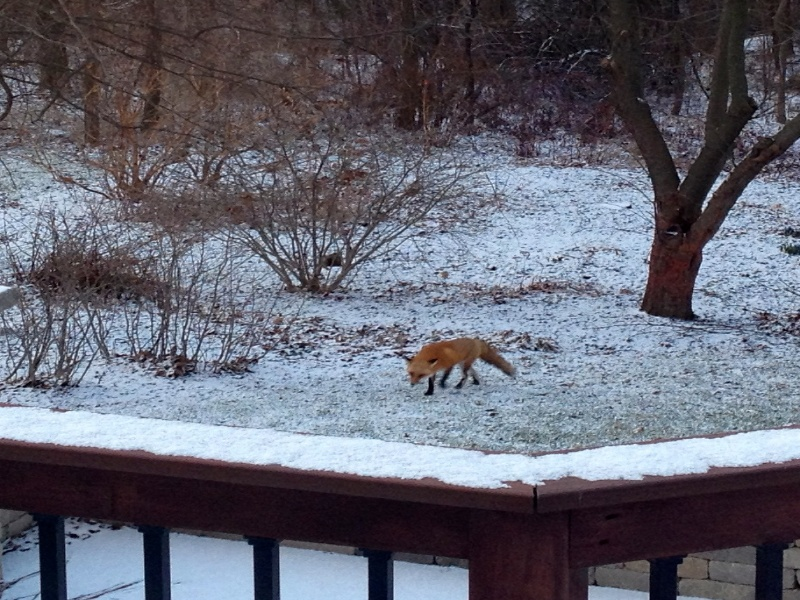fox: (397, 337, 517, 395)
